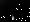person: (14, 9, 21, 20)
